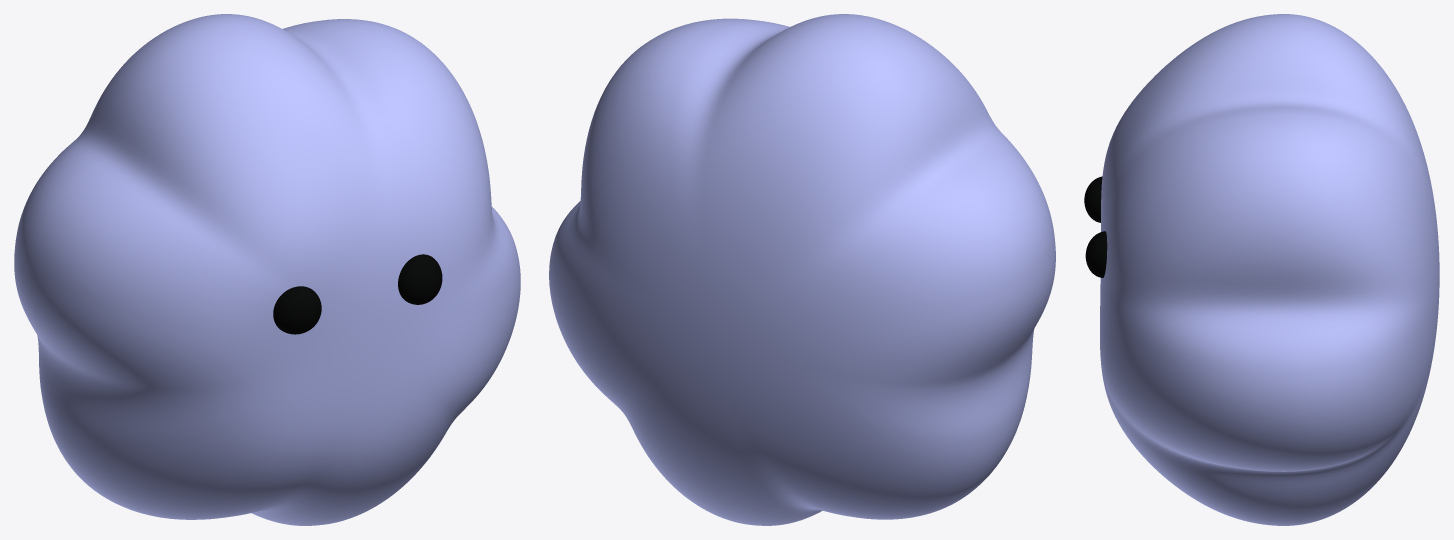
Rendered from dot-body.fbx.
3 views of the same model, side by side, from view 1: azimuth 30°, elevation 25°; view 2: azimuth 150°, elevation 25°; view 3: azimuth 270°, elevation 25° (orthographic). The views are drawn at different scales.
Parts seen in each view (by area): view 1: DotBody; view 2: DotBody; view 3: DotBody.
Boxes of the visible parts, <box> form: DotBody: <box>14,14,520,525</box>; DotBody: <box>549,14,1055,525</box>; DotBody: <box>1084,14,1439,525</box>.
Bounding box in the file's own units: 2.07 × 1.5 × 2.14.
